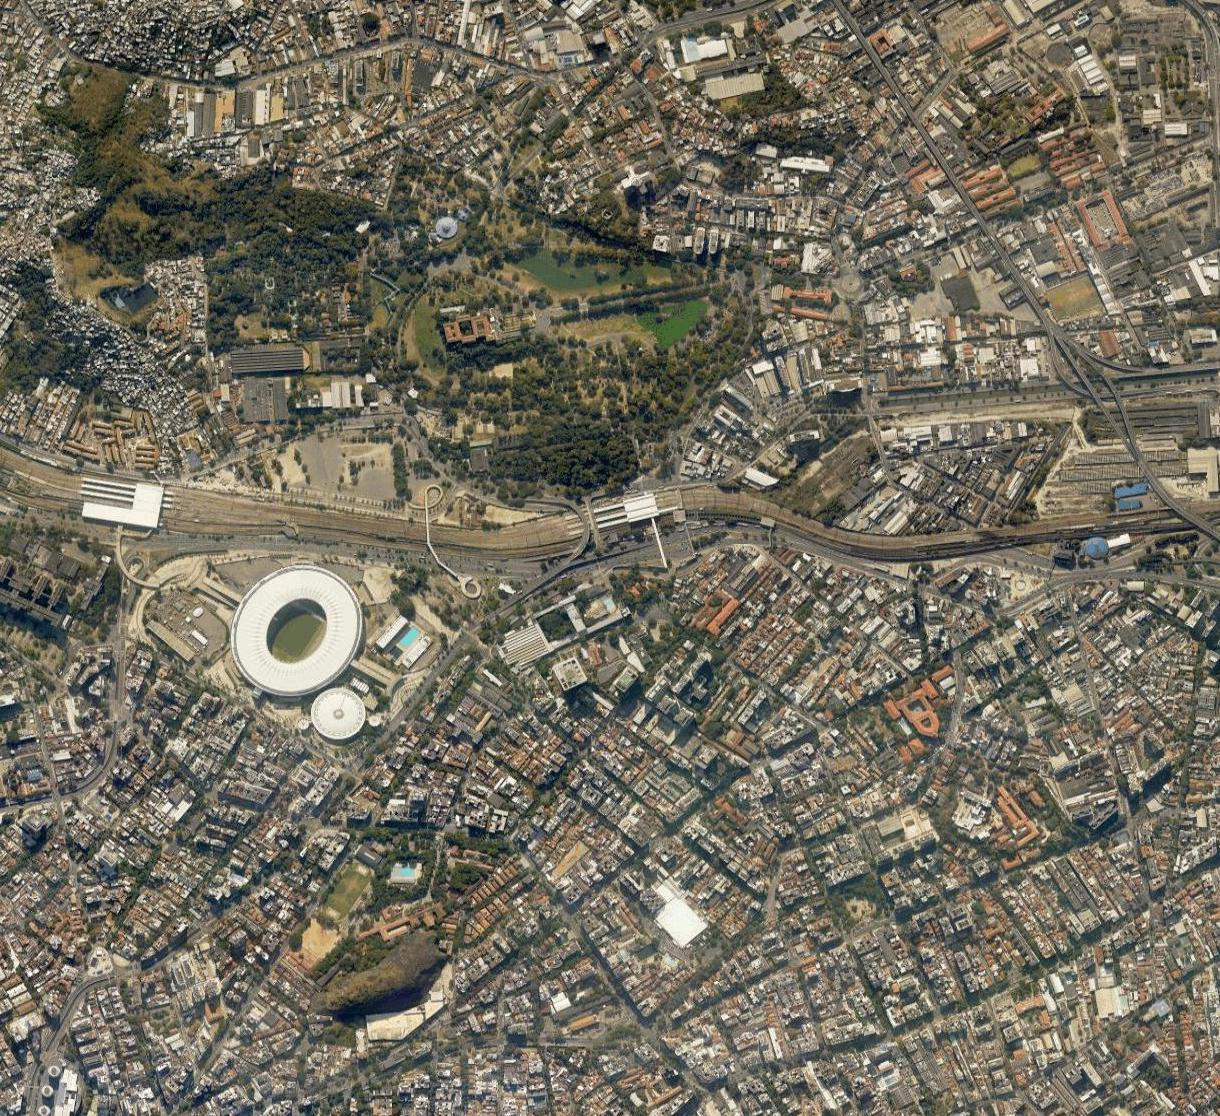bridge: (575, 505, 601, 541)
train_station: (72, 471, 172, 531), (590, 492, 670, 529)
